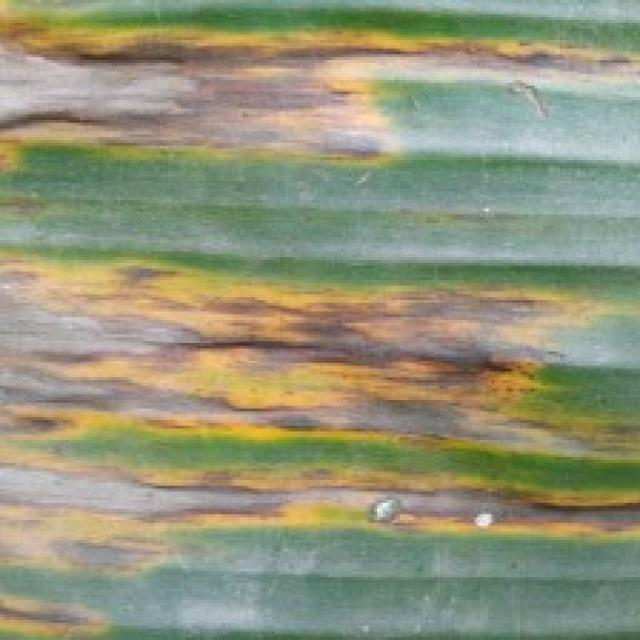Early_leaf_spot: (0, 202, 640, 640), (0, 0, 640, 213)
